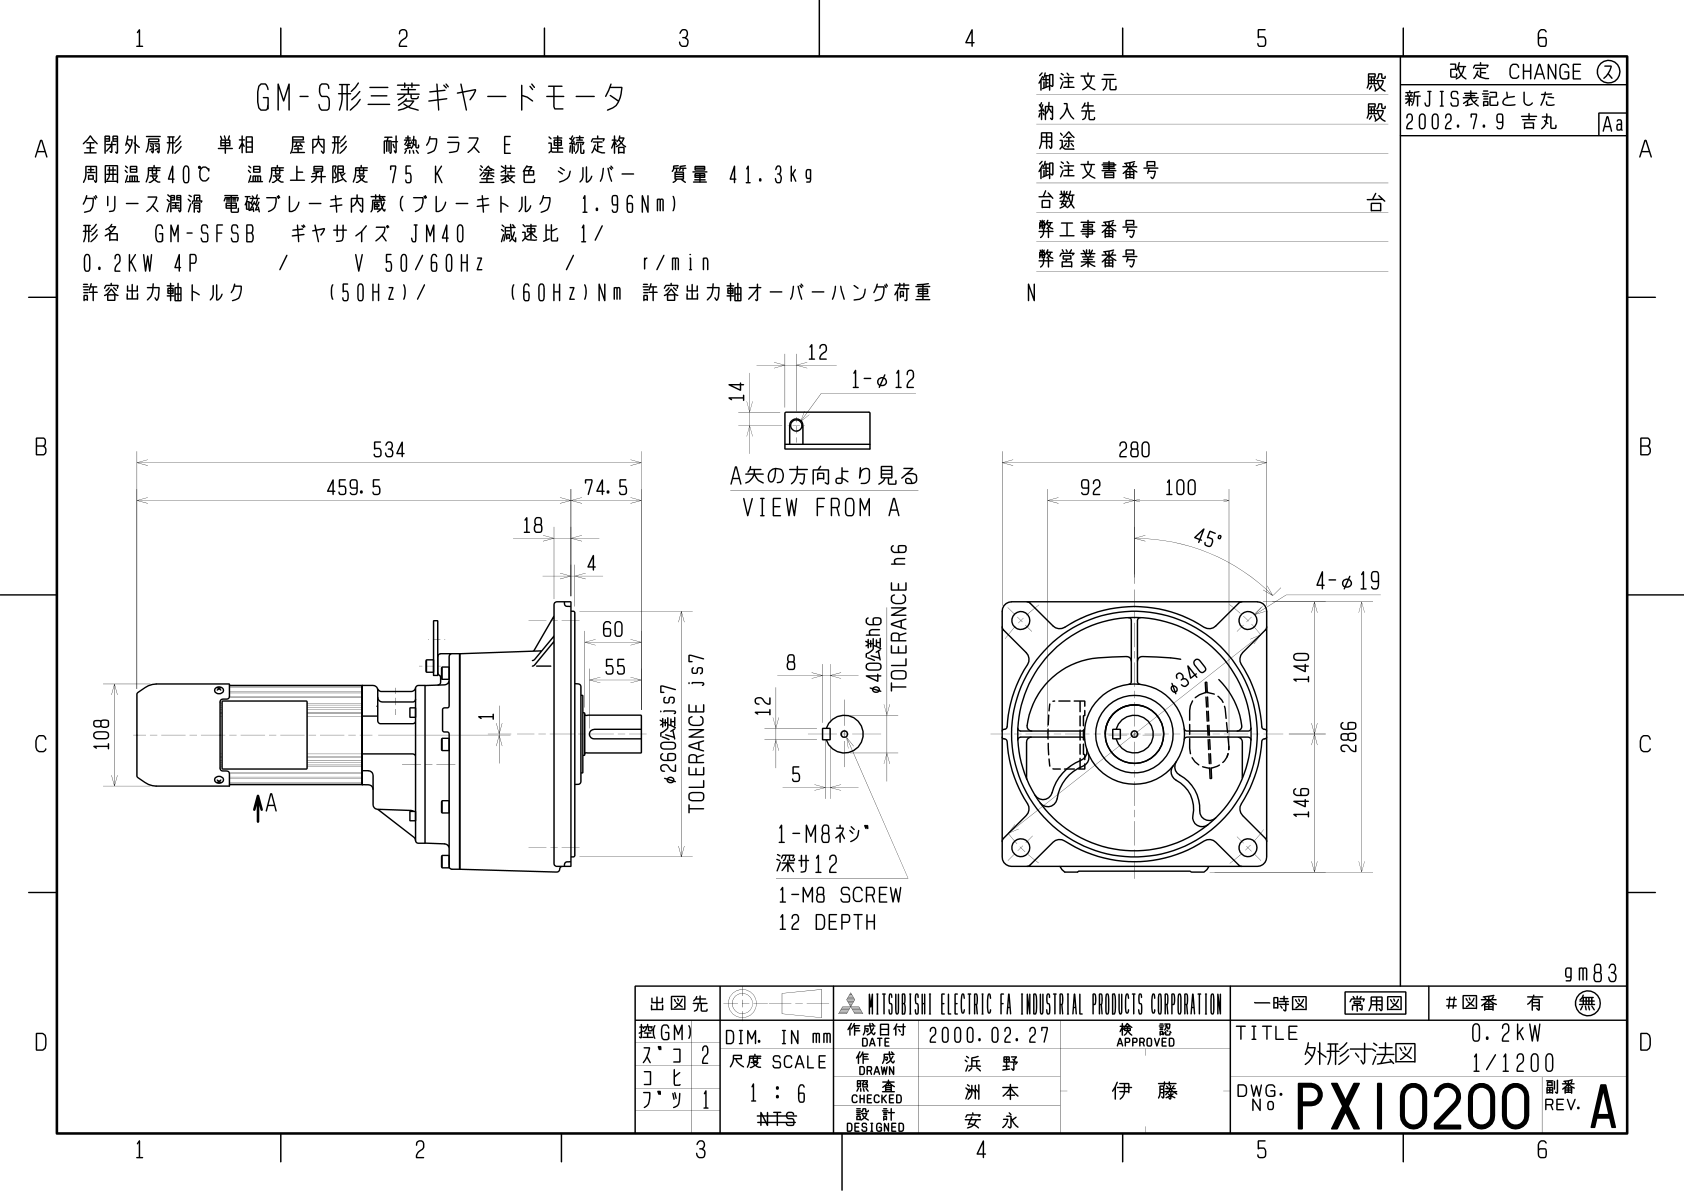GM_S_屋内＿単相_フランジ: (81, 318, 1389, 963)
